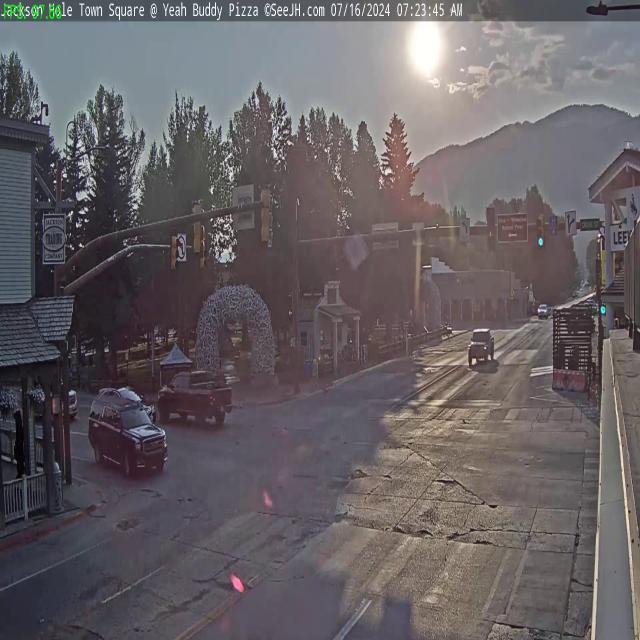pickup: (157, 365, 235, 431)
suv: (86, 390, 168, 479), (466, 324, 496, 368)
traffic light: (190, 198, 203, 255), (260, 184, 272, 244), (487, 207, 496, 252), (170, 233, 180, 272), (537, 214, 545, 248)
